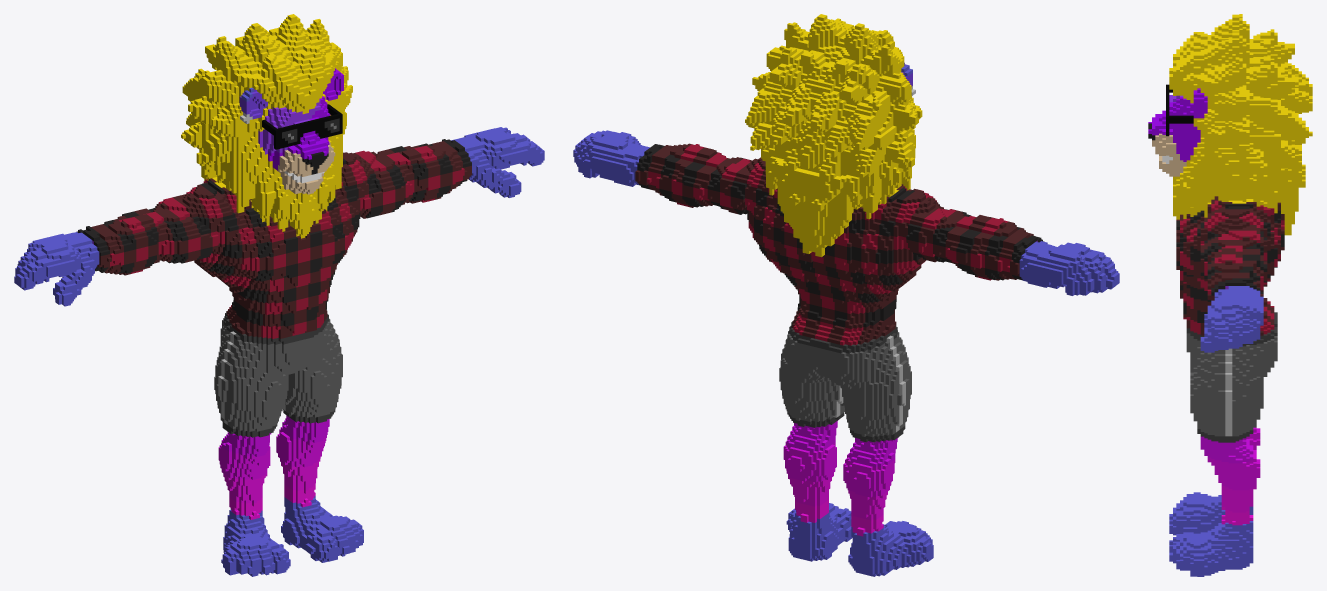
3 views of the same model, side by side, from view 1: azimuth 30°, elevation 25°; view 2: azimuth 150°, elevation 25°; view 3: azimuth 270°, elevation 25° (orthographic). The views are drawn at different scales.
Parts seen in each view (by area): view 1: big_smile; view 2: big_smile; view 3: big_smile.
Part boxes in pixels (x1=…): big_smile: x1=14, y1=14, x2=544, y2=576; big_smile: x1=573, y1=14, x2=1119, y2=576; big_smile: x1=1148, y1=14, x2=1312, y2=576.
Size of the model in its own units: 17.2 by 16.5 by 4.7.
Materials: 6 (6 with a texture image).
